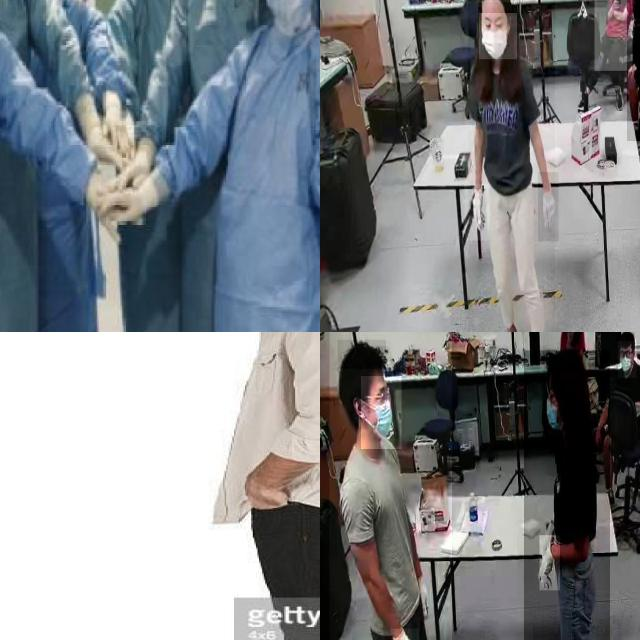face_mask: (361, 376, 401, 449), (479, 13, 517, 59), (542, 371, 564, 435), (263, 0, 308, 25), (618, 340, 636, 378)
glasses: (373, 388, 393, 407)
hand_glove: (96, 187, 142, 221), (464, 184, 490, 242), (538, 172, 559, 242), (85, 132, 120, 173), (108, 158, 150, 190), (540, 535, 560, 591), (102, 110, 130, 149), (390, 628, 419, 640)
hand_noglove: (593, 429, 603, 454), (612, 0, 621, 7)
head_nohelmet: (338, 340, 387, 370), (546, 348, 586, 374), (616, 332, 635, 342)
person: (201, 0, 320, 332), (329, 332, 452, 640), (152, 0, 255, 332), (209, 332, 320, 640), (0, 0, 97, 332), (468, 0, 555, 332), (523, 350, 610, 640), (106, 0, 198, 99), (595, 332, 640, 518), (594, 0, 632, 72)
shoes: (499, 320, 519, 332)
